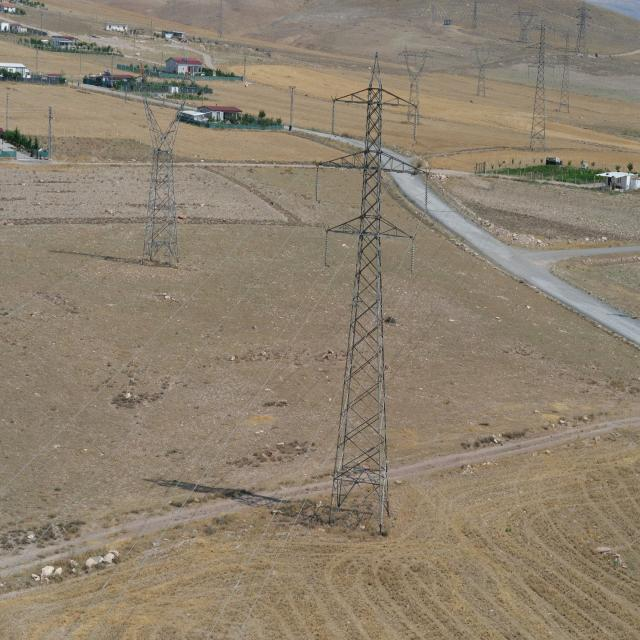direk: (328, 62, 408, 536), (145, 106, 180, 260)
